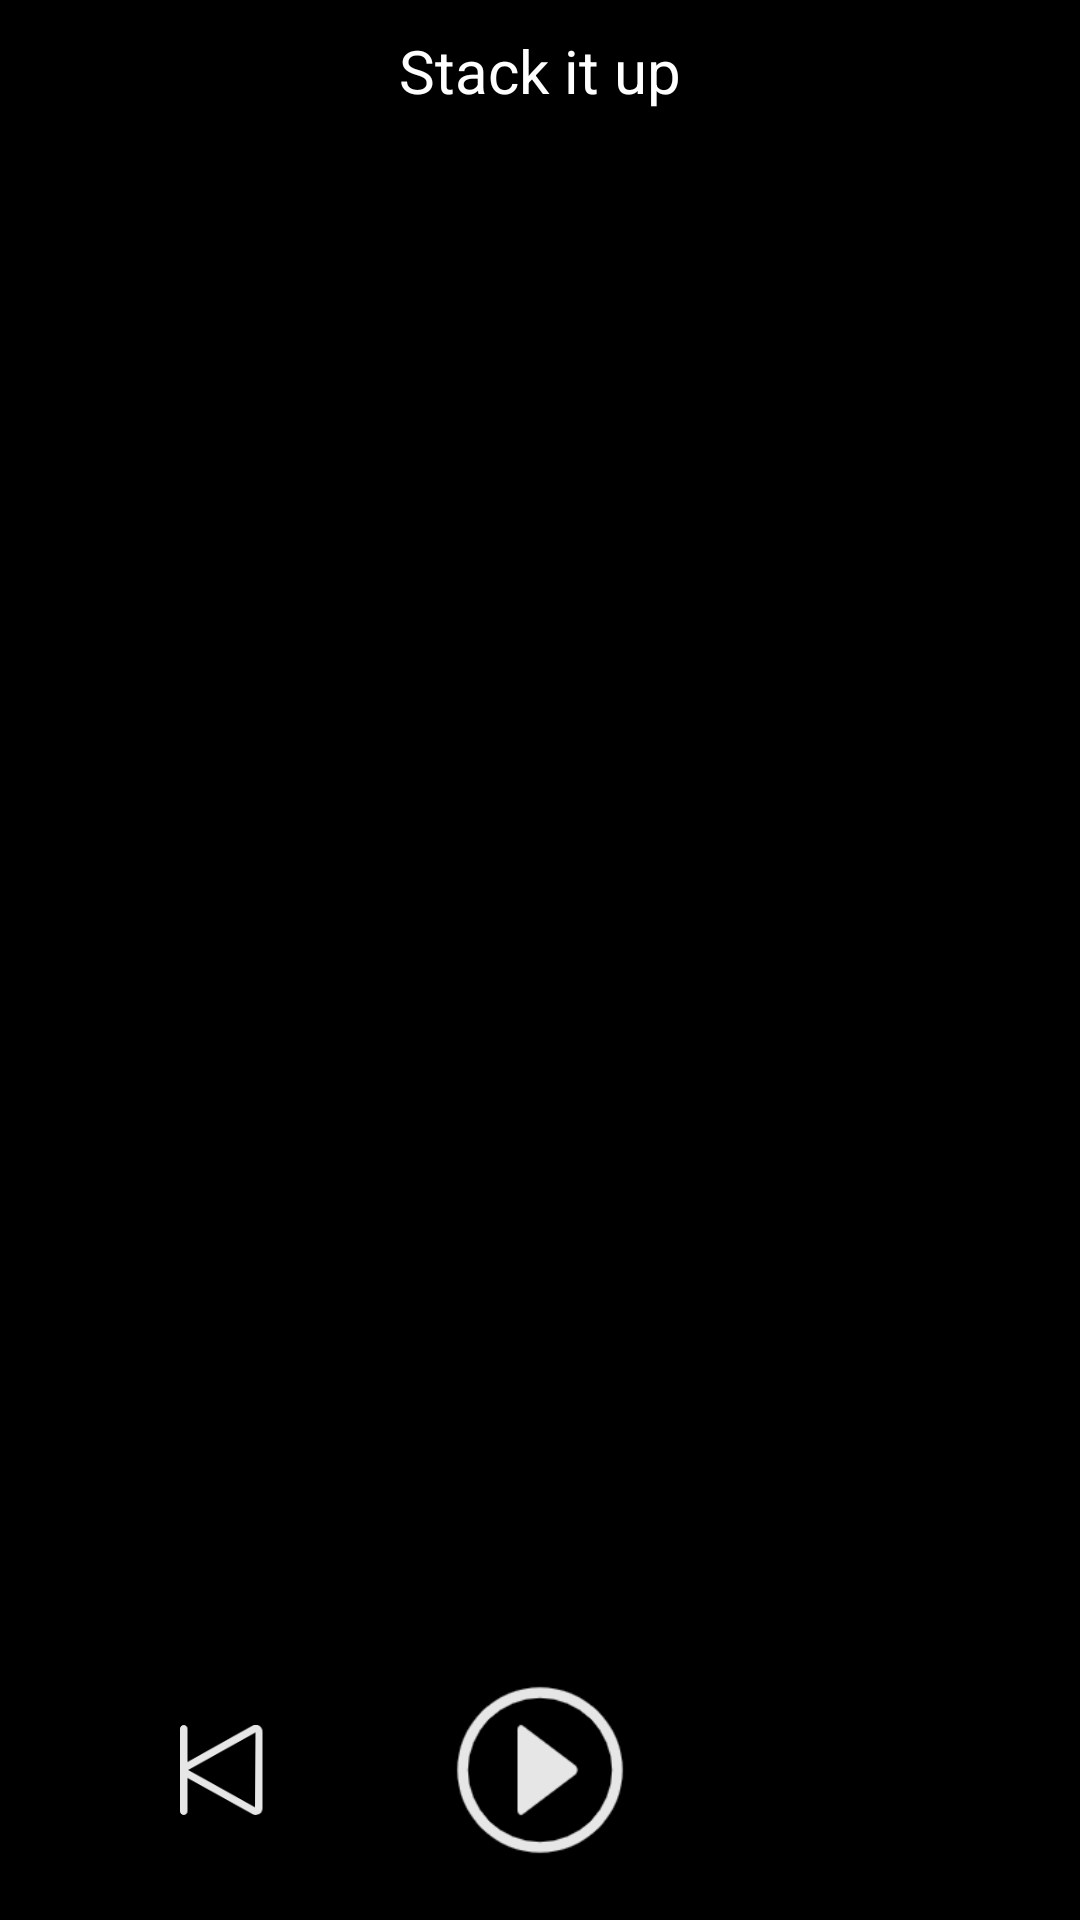

Named icons in this screenshot (1080px x 1920px) and their bounding boxes, (x1, y1, x2, y2):
start: (457, 1687, 623, 1853)
